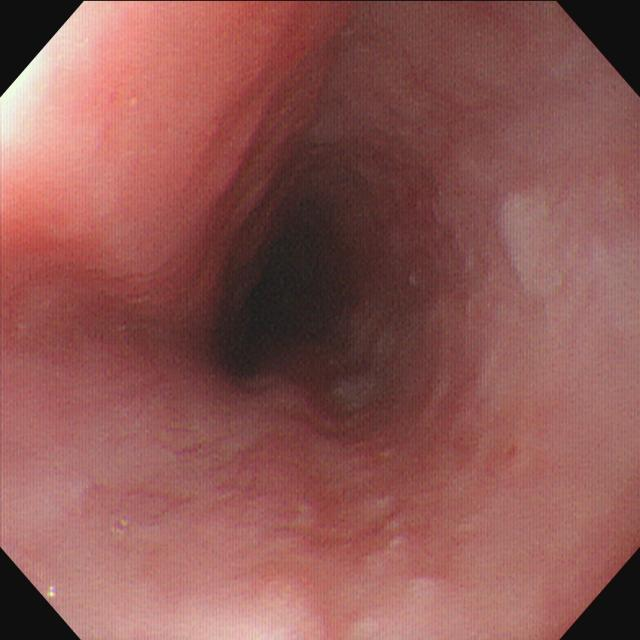E: (217, 192, 370, 386)
J: (498, 186, 569, 297)
